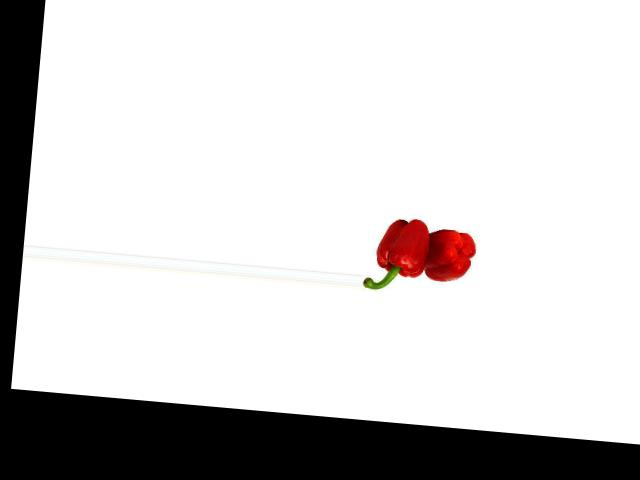bell_pepper: (423, 224, 477, 287)
